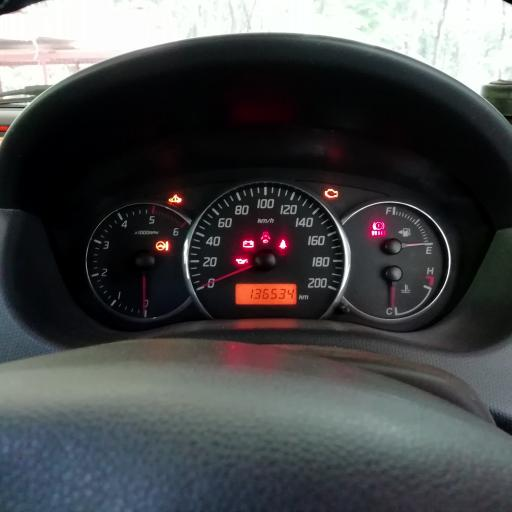brake_system_fault: (371, 220, 385, 230)
check_engine: (324, 188, 338, 198)
oil: (235, 257, 248, 265)
tachometer: (87, 200, 186, 322)
vehicle_charging: (243, 240, 254, 248)
